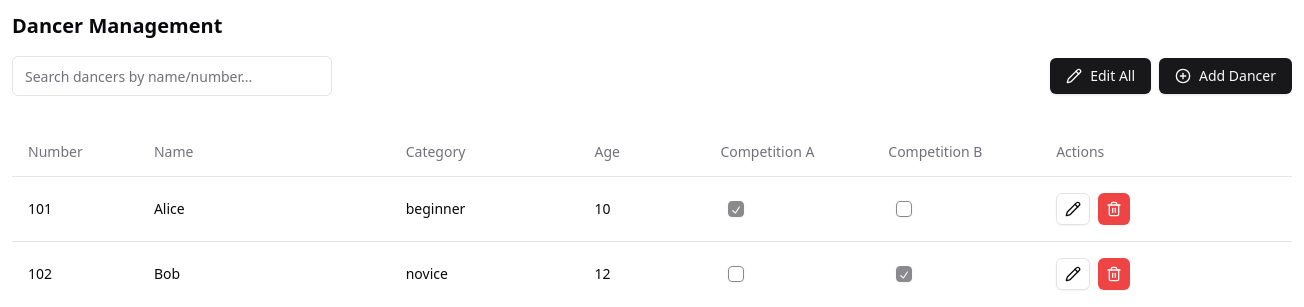
Test: DancerManagement › exits batch edit mode when "Cancel" is clicked
Click the button "Edit All" at [1101, 76], box 1050,58 -> 1151,94
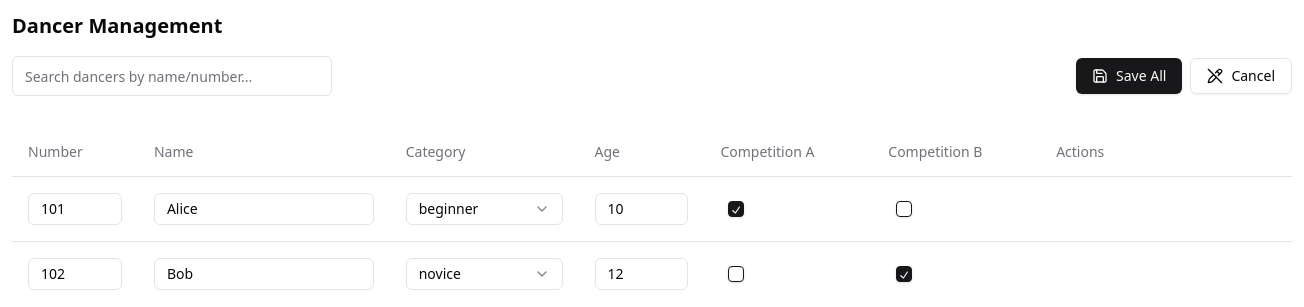
Click the button "Cancel" at [1241, 76], box 1190,58 -> 1292,94
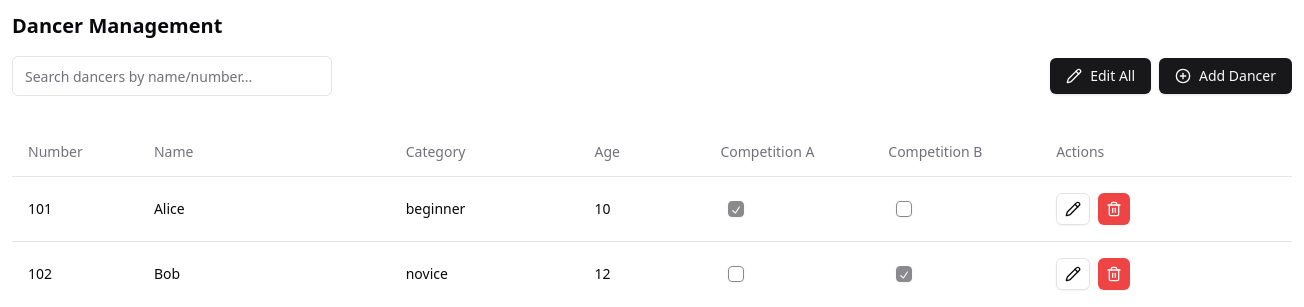
Check: the button "Edit All" is shown, box 1050,58 -> 1151,94
Check: the button "Save All" is gone
